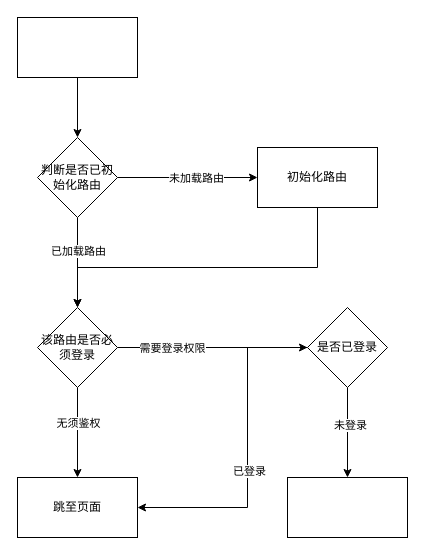
The diagram is 425 pixels wide and 555 high, and some of its shapes have lost their labels. The box of each missing label's shape, as (x1, y1, x2, y2) in pixels:
访问页面: (16, 16, 138, 78)
跳至登录页: (286, 476, 408, 538)
